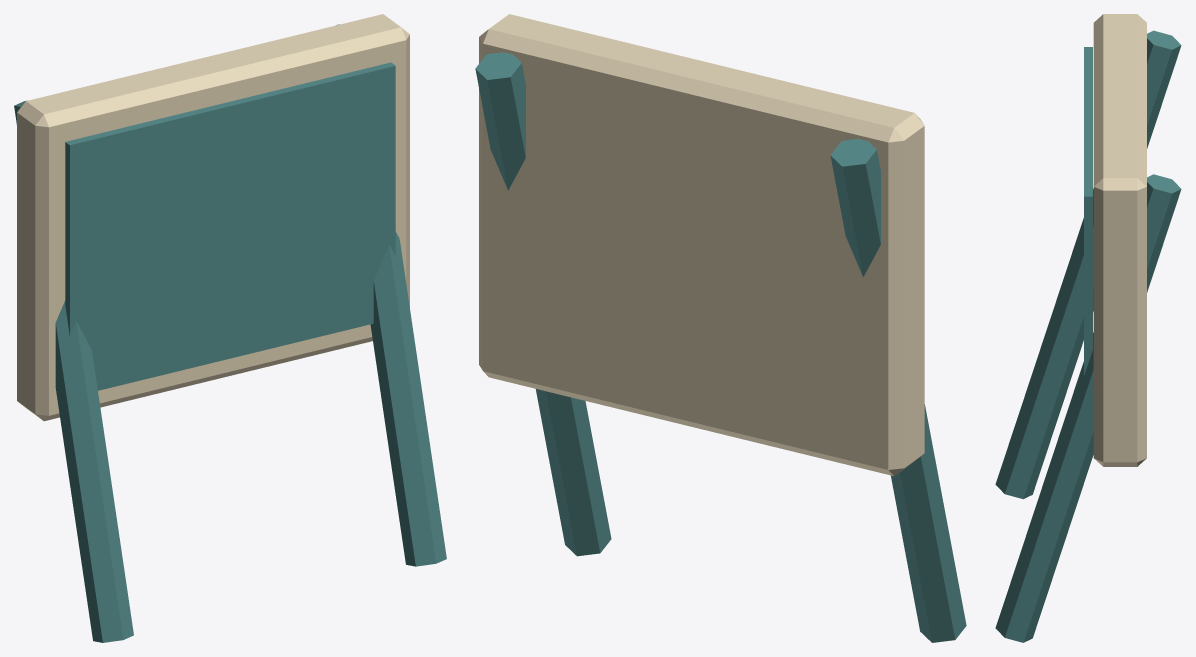
File: hsc3_blank_signboard.glb
3 renders of one model, left to right at view 1: azimuth 30°, elevation 25°; view 2: azimuth 150°, elevation 25°; view 3: azimuth 270°, elevation 25°, orthographic. The views are drawn at different scales.
Visible parts, largest first — view 1: hsc3_blank_signboard__hsc3-deep-teal, hsc3_blank_signboard__hsc3-cream-enamel; view 2: hsc3_blank_signboard__hsc3-cream-enamel, hsc3_blank_signboard__hsc3-deep-teal; view 3: hsc3_blank_signboard__hsc3-deep-teal, hsc3_blank_signboard__hsc3-cream-enamel.
Boxes of the visible parts, box(x1,y1,x2,y2) form: hsc3_blank_signboard__hsc3-deep-teal: box(14, 24, 446, 642); hsc3_blank_signboard__hsc3-cream-enamel: box(17, 14, 409, 421); hsc3_blank_signboard__hsc3-cream-enamel: box(479, 14, 924, 475); hsc3_blank_signboard__hsc3-deep-teal: box(475, 52, 966, 642); hsc3_blank_signboard__hsc3-deep-teal: box(995, 30, 1181, 642); hsc3_blank_signboard__hsc3-cream-enamel: box(1093, 14, 1146, 466).
Bounding box in the file's own units: 1.15 × 1.47 × 0.5254.
